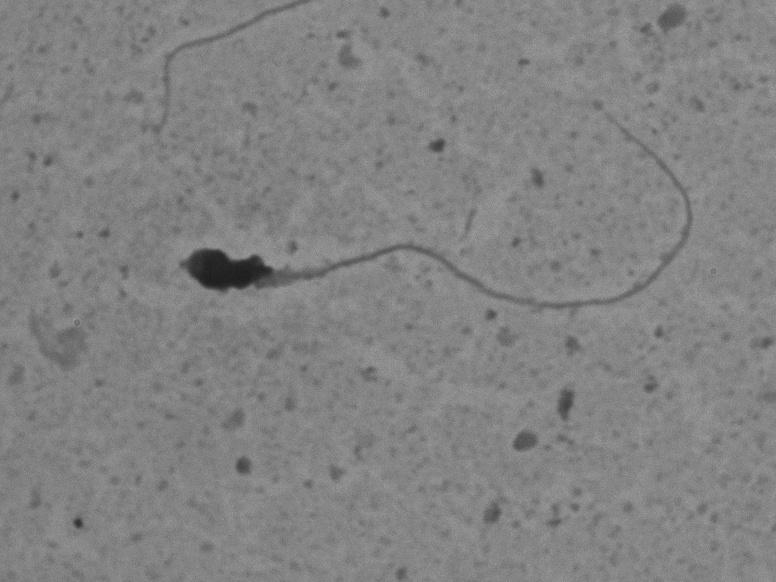Abnormal: (167, 75, 710, 375)
